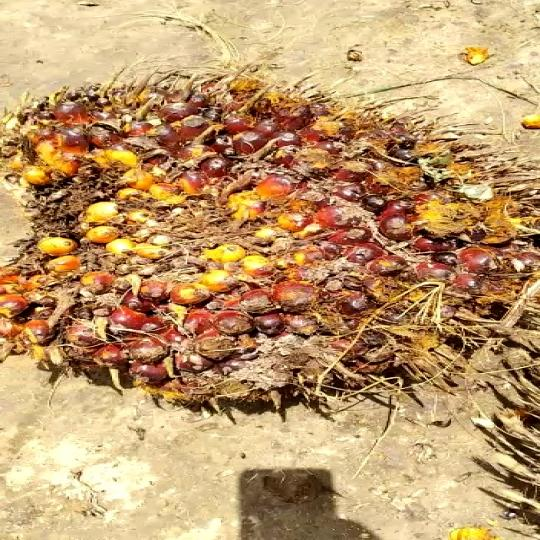masak: (0, 65, 540, 419)
